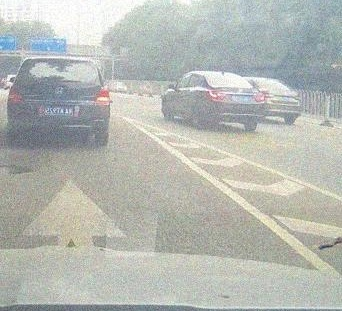L_light: (8, 87, 23, 102), (208, 91, 225, 101)
R_light: (95, 86, 110, 103), (253, 92, 264, 102)
T_light: (52, 60, 65, 63), (218, 74, 228, 77)
day-no: (204, 71, 265, 130)
day-right: (7, 56, 110, 145)
